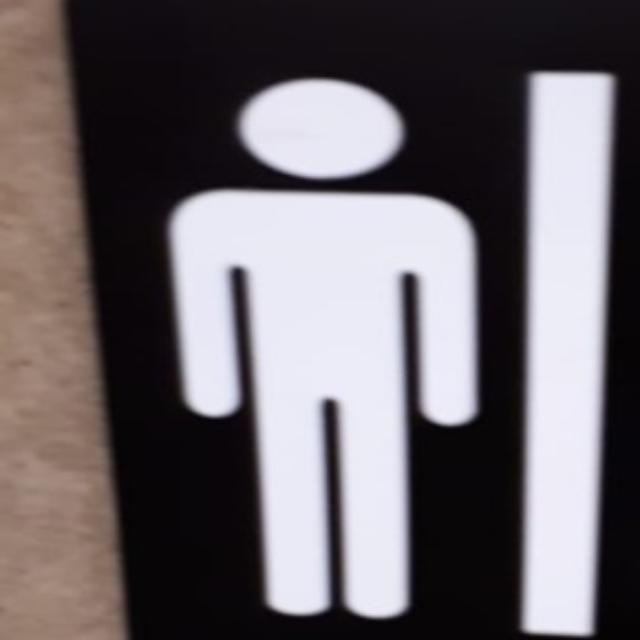mens_restroom: (172, 79, 477, 616)
